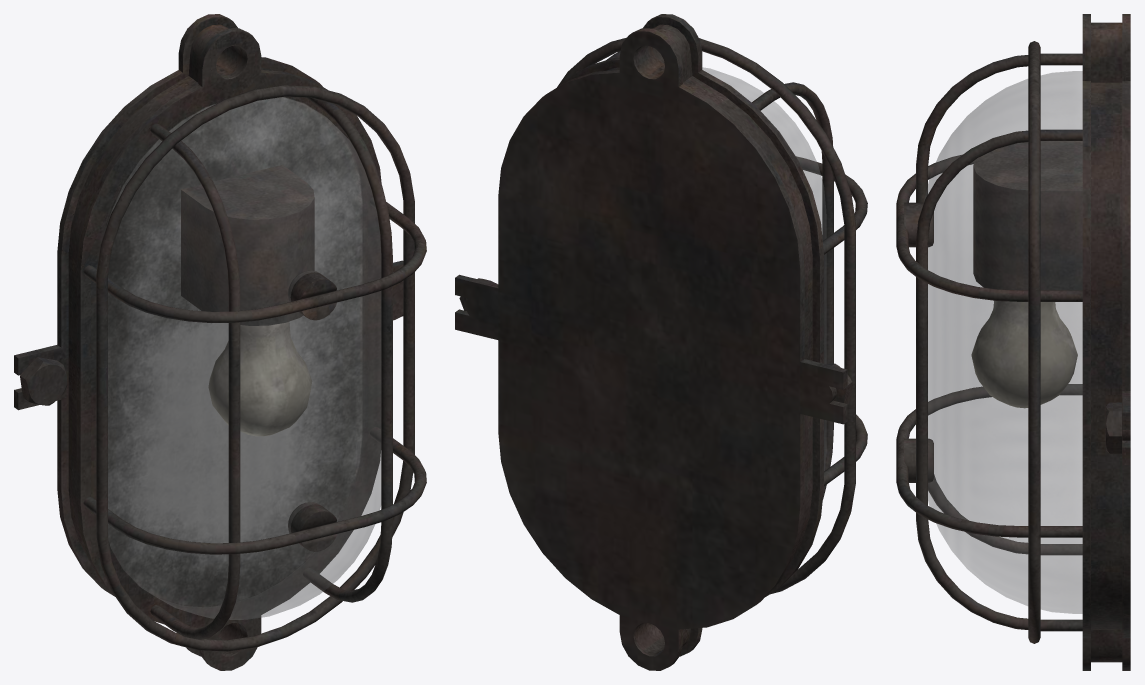
The model's file is ph_wall_lamp.gltf.
3 renders of one model, left to right at view 1: azimuth 30°, elevation 25°; view 2: azimuth 150°, elevation 25°; view 3: azimuth 270°, elevation 25°, orthographic.
Parts seen in each view (by area): view 1: Body; view 2: Body; view 3: Body.
Boxes of the visible parts, x1,y1,x2,y2 form: Body: (14, 14, 426, 670); Body: (455, 14, 867, 670); Body: (896, 14, 1130, 670).
Size of the model in its own units: 0.2735 by 0.4299 by 0.1404.
Materials: 2 (2 with a texture image).
